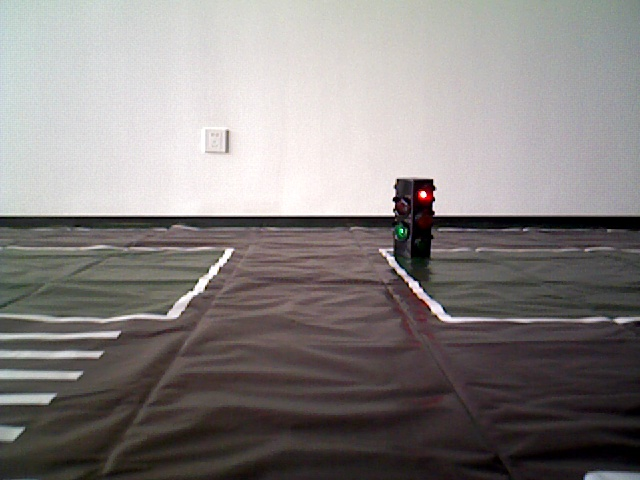red: (394, 181, 432, 268)
